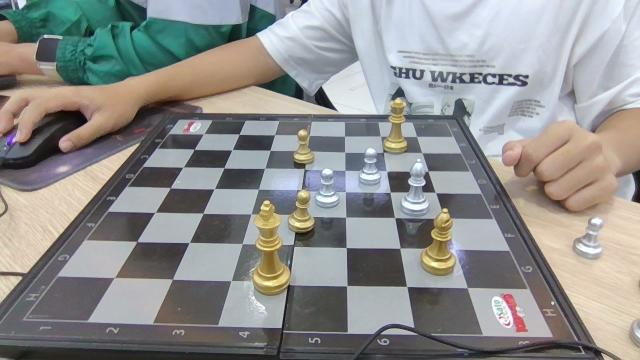black_bishop: (420, 209, 458, 277)
black_king: (251, 200, 290, 294)
black_pawn: (288, 190, 315, 233), (292, 129, 315, 166)
black_queen: (382, 97, 410, 154)
white_bishop: (402, 159, 430, 217)
white_pawn: (573, 217, 607, 260), (359, 148, 383, 187), (318, 169, 341, 209)
